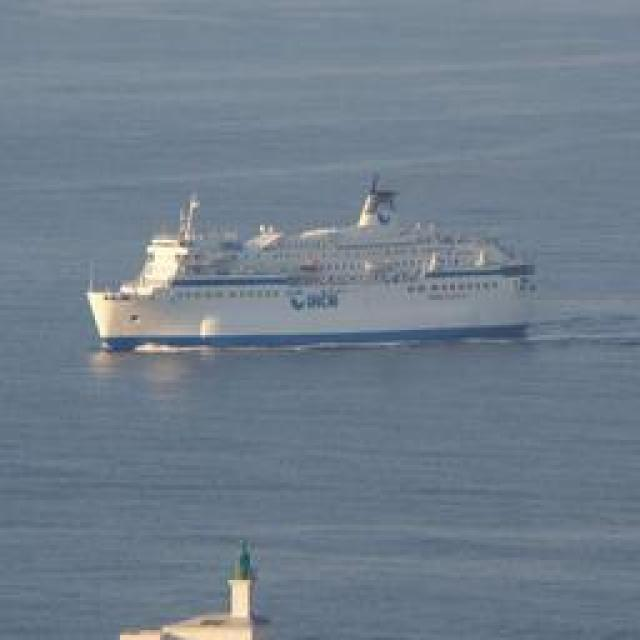CIV_Ship: (86, 168, 536, 350)
